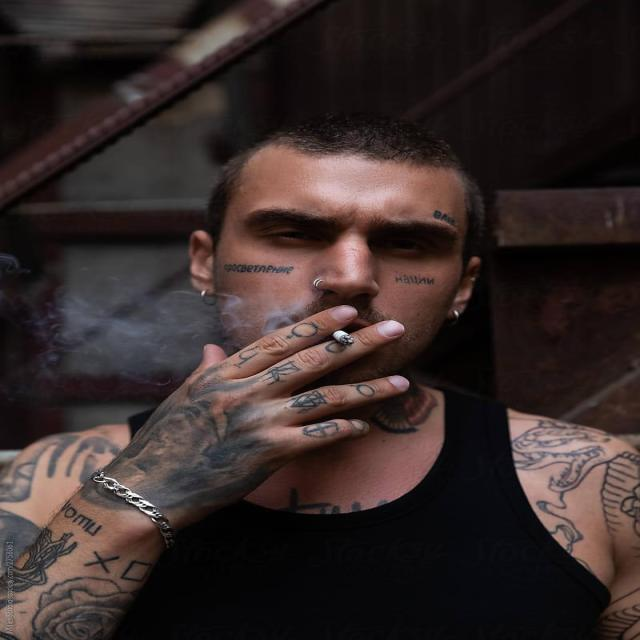cigarette: (302, 314, 388, 367)
